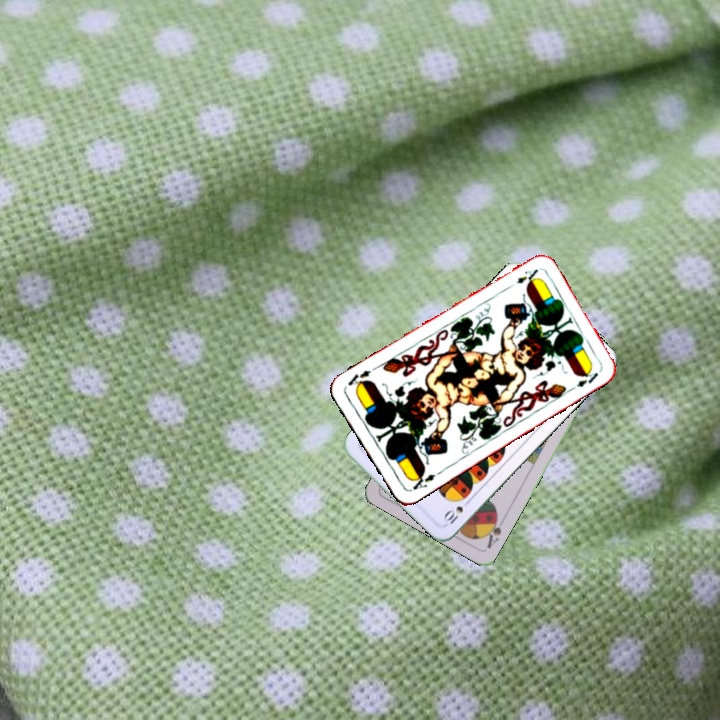EA: (407, 468, 438, 493), (513, 265, 541, 286)
S10: (439, 495, 473, 527)
SA: (480, 510, 508, 551)
